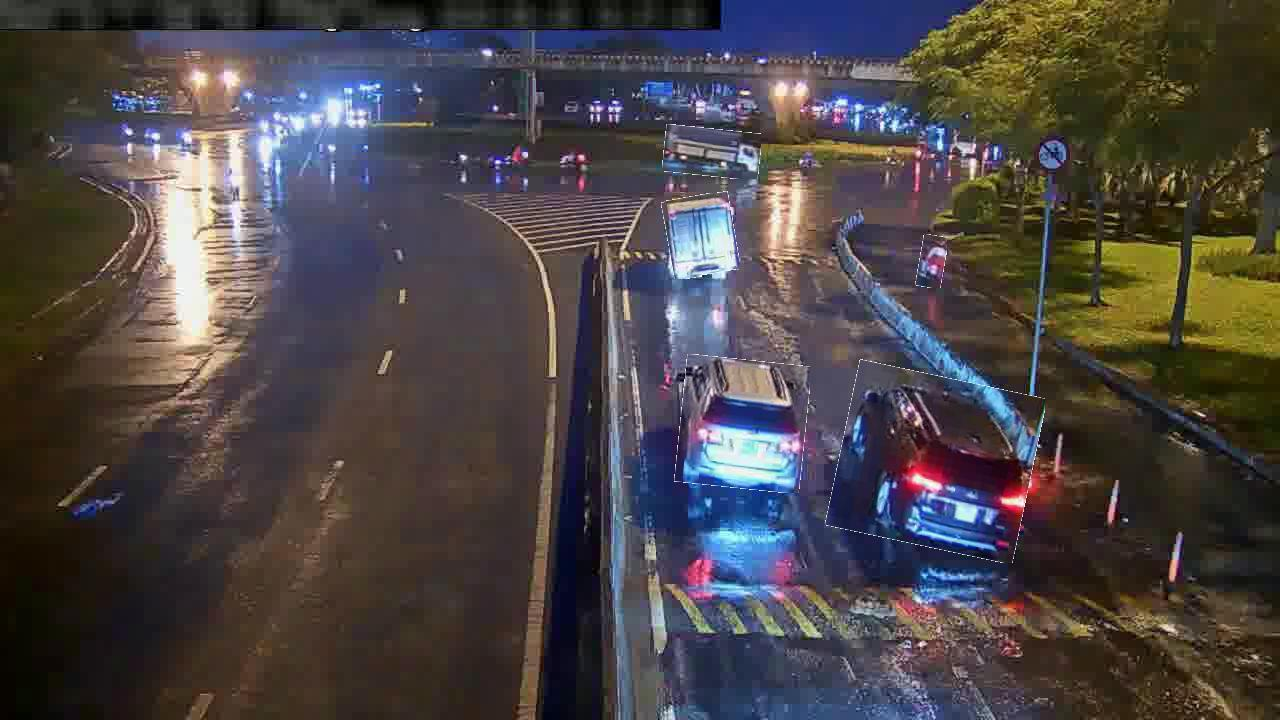8: (664, 194, 737, 278), (663, 127, 761, 178)
container: (833, 368, 1039, 555), (677, 357, 808, 491)
motorbike: (917, 235, 946, 289)
